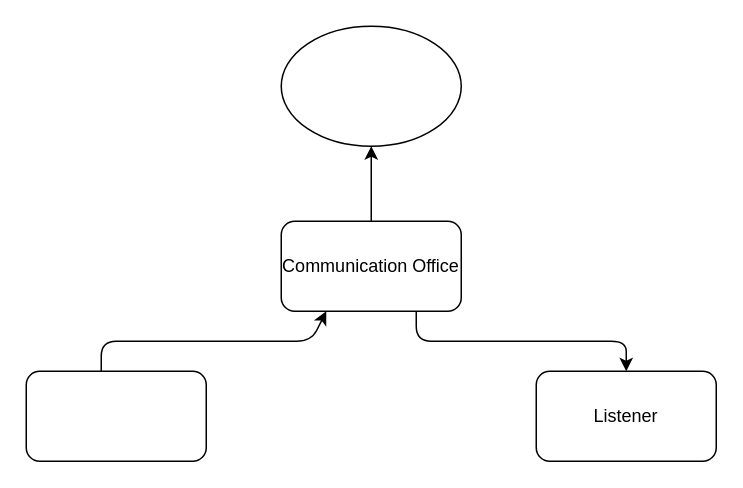
Image size: 743x488. Some labels were removed from this diagram. Here are the shapes that lost their labels. From the top down, the centre of each, then its label:
At point 370,85: "Events Pool".
At point 115,415: "Handler".
